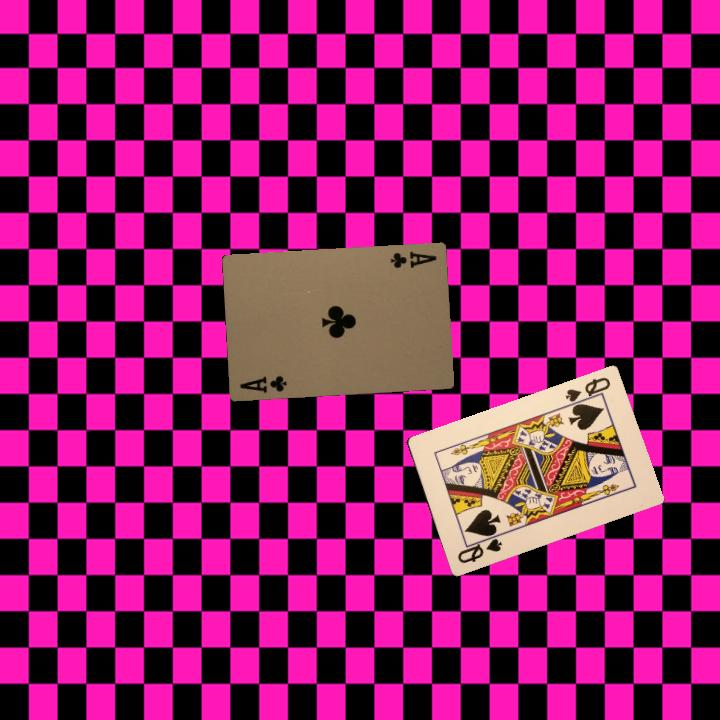Ac: (236, 372, 289, 396), (386, 248, 439, 271)
Qs: (453, 529, 505, 566), (561, 373, 613, 409)
